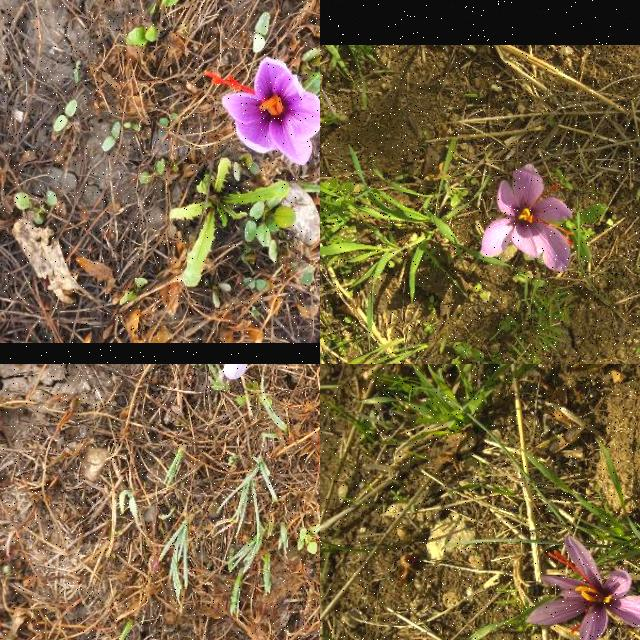flower: (204, 57, 320, 165), (525, 535, 640, 640), (481, 164, 574, 274), (223, 364, 249, 380)
